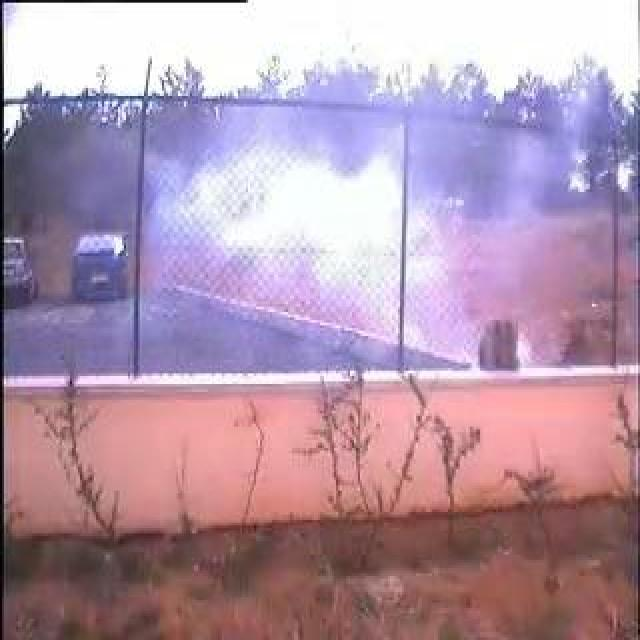Smoke: (168, 128, 554, 363)
